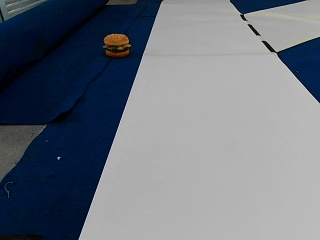burger: (103, 31, 130, 57)
